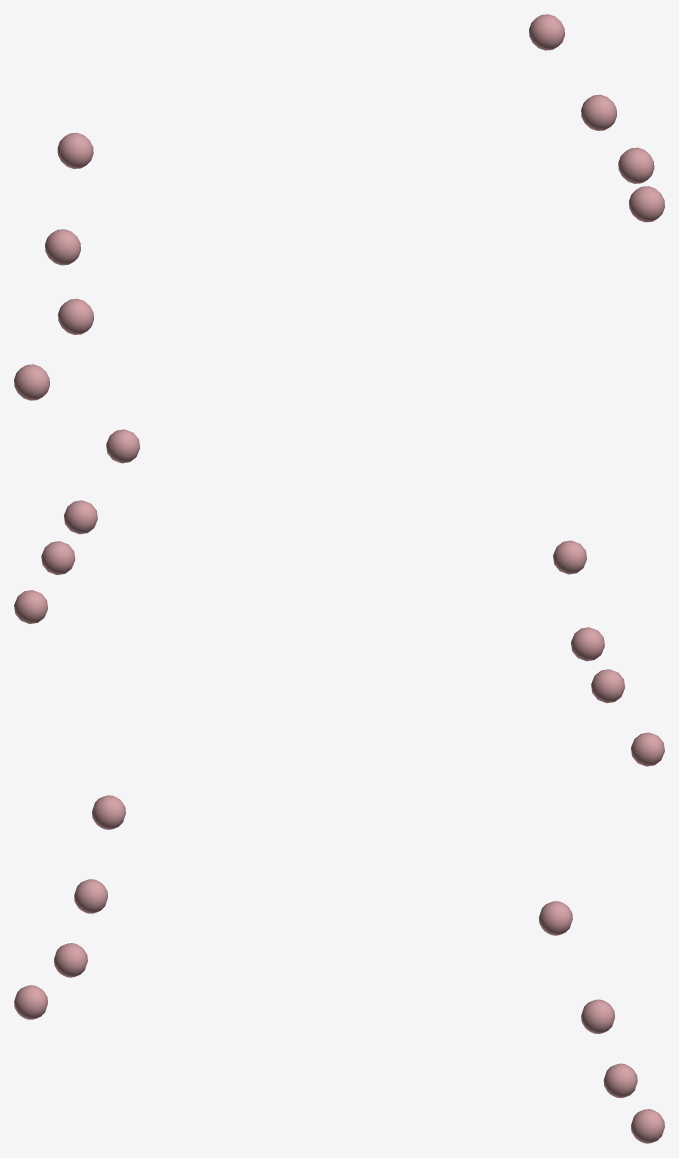
The picture shows the model from 3 angles, top to bottom: view 1: azimuth 30°, elevation 25°; view 2: azimuth 150°, elevation 25°; view 3: azimuth 330°, elevation 25°; orthographic projection. The views are drawn at different scales.
Visible parts, largest first — view 1: ZA_94191014f96a046a; view 2: ZA_94191014f96a046a; view 3: ZA_94191014f96a046a.
Part boxes in pixels (x1,y1,x2,y2): ZA_94191014f96a046a: (14, 14, 664, 400); ZA_94191014f96a046a: (14, 429, 664, 766); ZA_94191014f96a046a: (14, 795, 664, 1143).
Bounding box in the file's own units: 0.0545 × 0.0186 × 0.00558.
